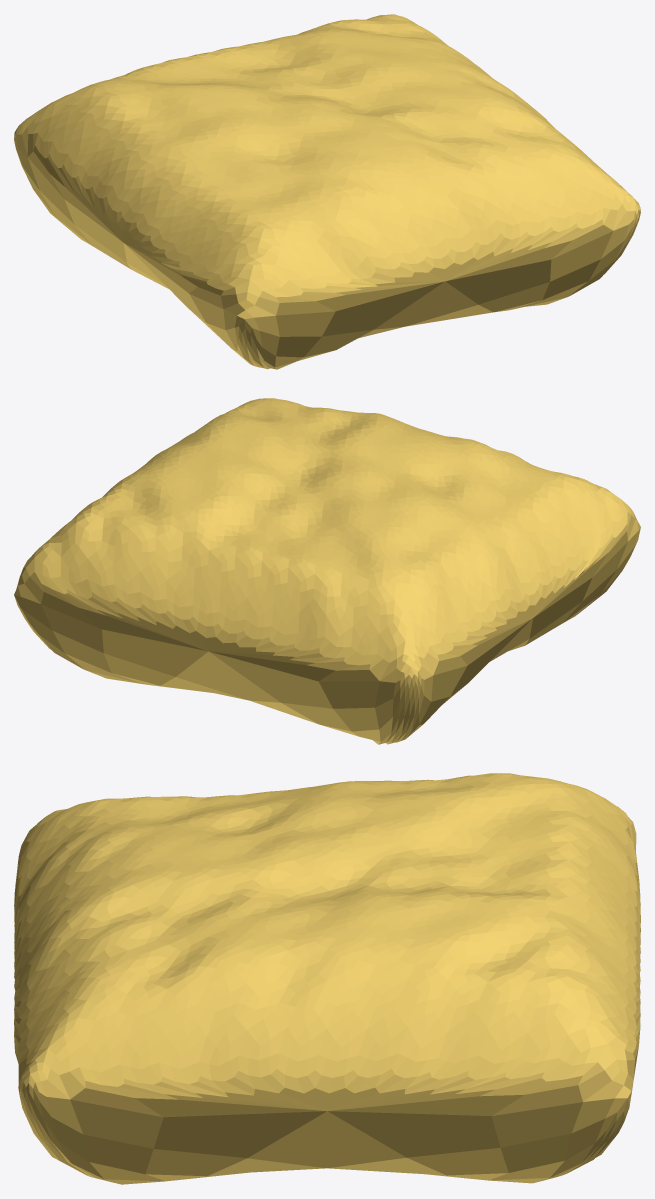
File: Sea Island.fbx
3 views of the same model, one above another, from view 1: azimuth 30°, elevation 25°; view 2: azimuth 150°, elevation 25°; view 3: azimuth 270°, elevation 25° (orthographic). The views are drawn at different scales.
Visible parts, largest first — view 1: Plane.003; view 2: Plane.003; view 3: Plane.003.
Boxes of the visible parts, bbox=[...] form: Plane.003: bbox=[14, 14, 640, 369]; Plane.003: bbox=[14, 398, 640, 744]; Plane.003: bbox=[14, 773, 640, 1184].
Bounding box in the file's own units: 19.29 × 9.15 × 19.28.
